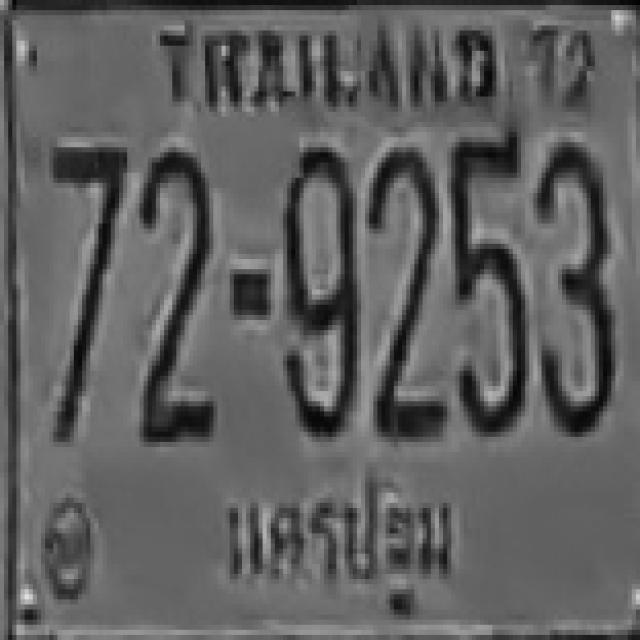2: (364, 140, 450, 440), (137, 148, 220, 442)
3: (534, 137, 612, 432)
5: (451, 132, 528, 436)
7: (49, 142, 130, 444)
9: (282, 148, 359, 437)
NakhonPathom: (214, 474, 465, 619)
